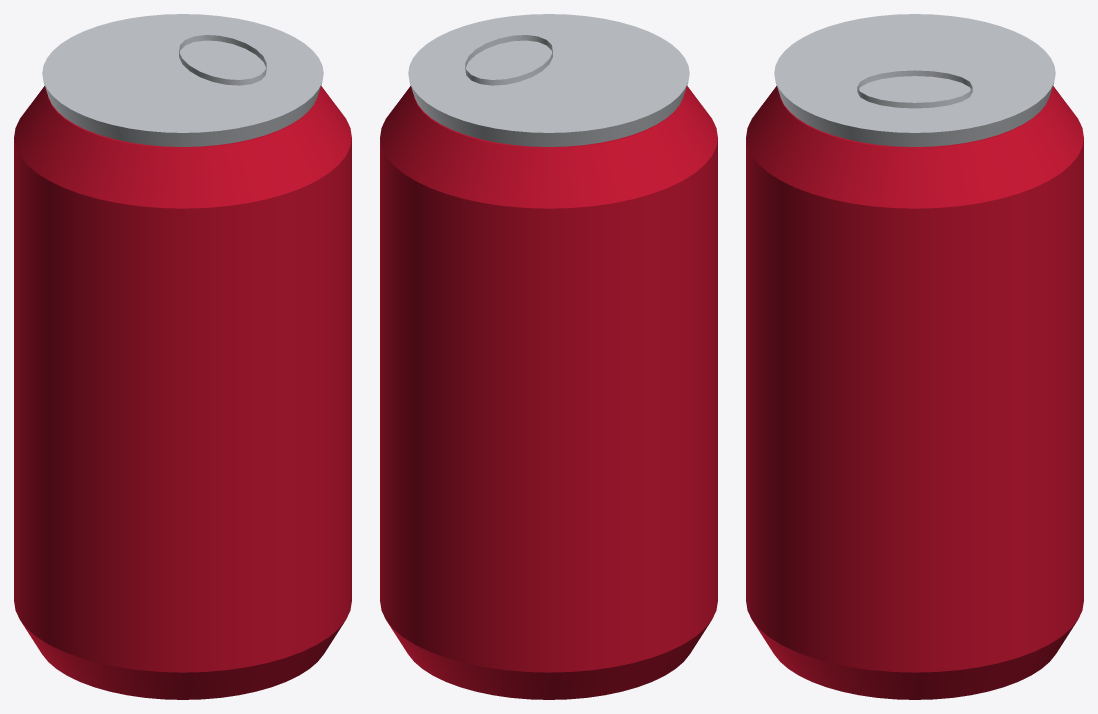
The model's file is lata.glb.
The picture shows the model from 3 angles, left to right: view 1: azimuth 30°, elevation 25°; view 2: azimuth 150°, elevation 25°; view 3: azimuth 270°, elevation 25°; orthographic projection.
Bounding box in the file's own units: 0.0659 × 0.123 × 0.0659.
